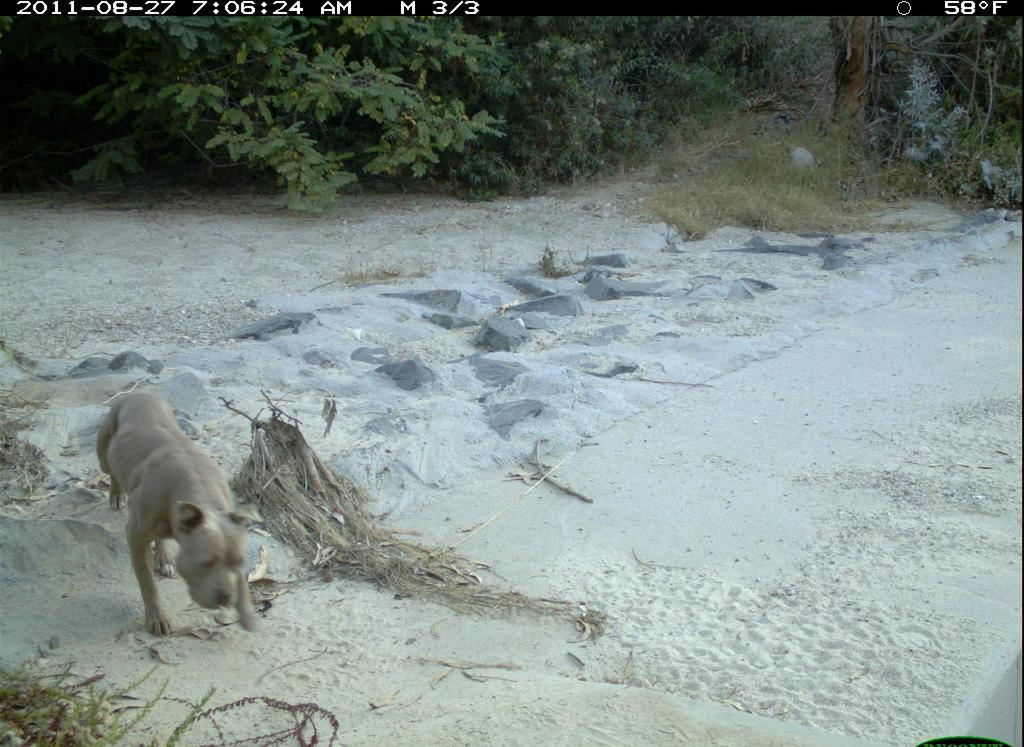dog: (89, 386, 276, 644)
